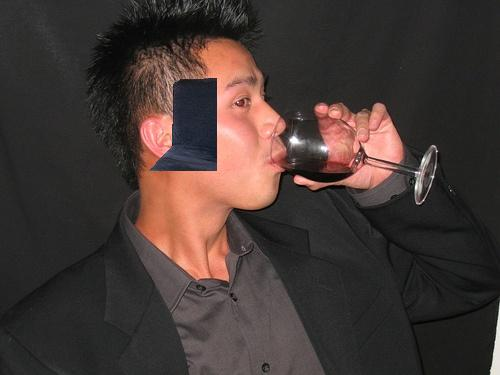tampered: (149, 79, 217, 171)
